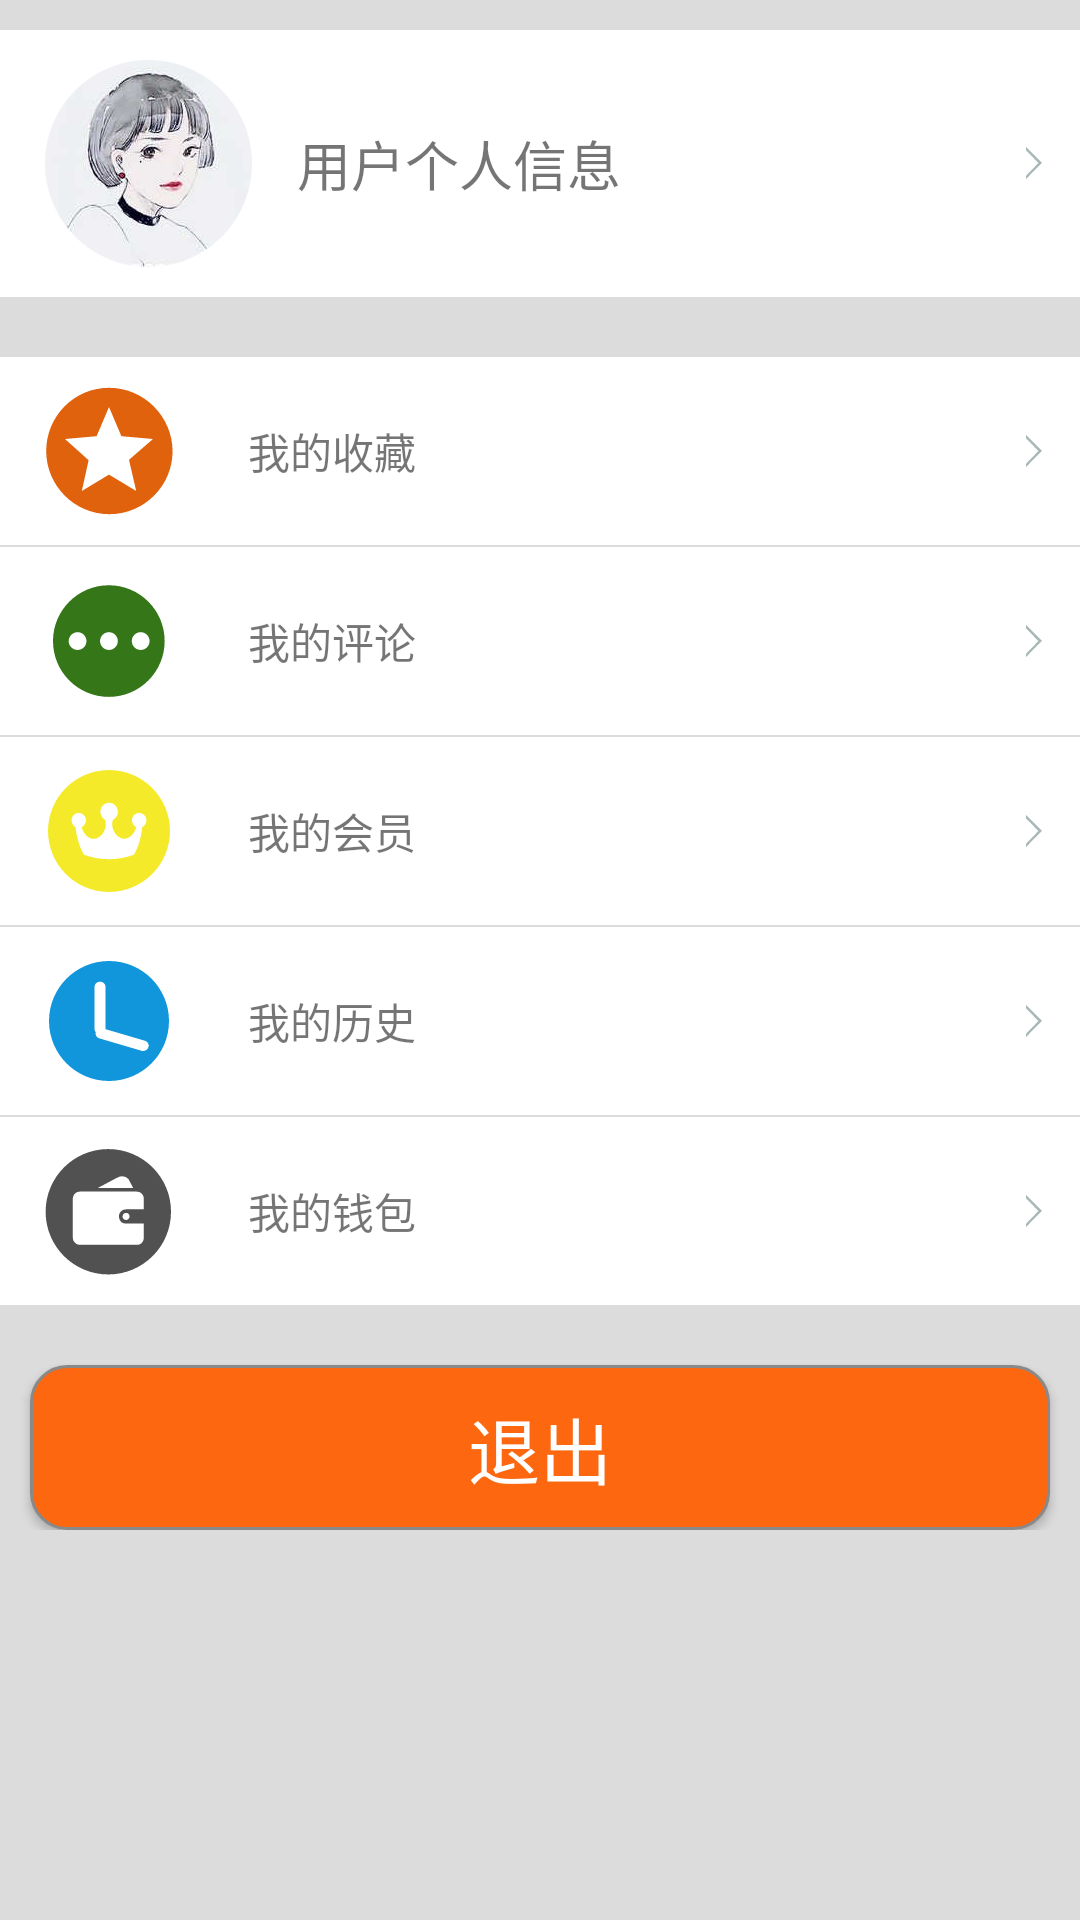

Screen size 1080*1920. Icon name, then its center in pixels as (x=x, y=y):
head: (x=148, y=163)
